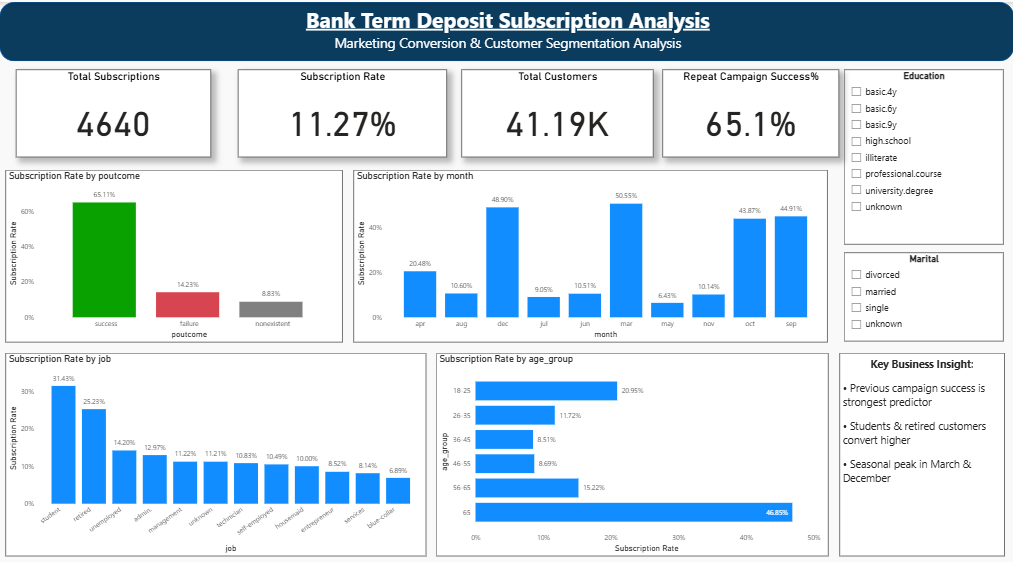

What the dashboard file says about the page in this screenshot:
{"tool":"powerbi","page":{"name":"Page 1","canvas":[1800,999],"ordinal":0},"visuals":[{"type":"card","title":"Total Subscriptions","fields":{"Values":["bank-additional-full.Subscriptions"]},"box":[32.5,120,345,155],"z":0},{"type":"card","title":"Subscription Rate","fields":{"Values":["bank-additional-full.Subscription Rate"]},"box":[425,120,370,155],"z":1000},{"type":"card","title":"Total Customers","fields":{"Values":["CountNonNull(bank-additional-full.y)"]},"box":[820,120,340,155],"z":2000},{"type":"clusteredBarChart","fields":{"Category":["bank-additional-full.age_group"],"Y":["bank-additional-full.Subscription Rate"]},"box":[775,622.5,695,360],"z":3000},{"type":"clusteredColumnChart","fields":{"Category":["bank-additional-full.poutcome"],"Y":["bank-additional-full.Subscription Rate"]},"box":[12.5,297.5,597.5,305],"z":4000},{"type":"clusteredColumnChart","fields":{"Category":["bank-additional-full.month"],"Y":["bank-additional-full.Subscription Rate"]},"box":[630,297.5,840,305],"z":5000},{"type":"clusteredColumnChart","fields":{"Category":["bank-additional-full.job"],"Y":["bank-additional-full.Subscription Rate"]},"box":[12.5,622.5,745,360],"z":6000},{"type":"slicer","title":"Education","fields":{"Values":["bank-additional-full.education"]},"box":[1500,120,282.5,310],"z":7000},{"type":"slicer","title":"    Marital","fields":{"Values":["bank-additional-full.marital"]},"box":[1500,445,282.5,157.5],"z":8000},{"type":"shape","box":[2.5,0,1797.5,105],"z":9000},{"type":"textbox","box":[52.5,0,1700,105],"z":10000},{"type":"textbox","box":[1490,622.5,292.5,360],"z":11000},{"type":"card","title":"Repeat Campaign Success%","fields":{"Values":["bank-additional-full.Repeat Campaign Success %"]},"box":[1177.5,120,312.5,155],"z":12000}]}

Visuals, with their boxes in screenshot pixels (x1, y1, x2, y2), scaled from the page's 1800x999 canvas onto the 1013x562 screenshot:
"Total Subscriptions" card: (x1=18, y1=68, x2=212, y2=155)
"Subscription Rate" card: (x1=239, y1=68, x2=447, y2=155)
"Total Customers" card: (x1=461, y1=68, x2=653, y2=155)
clusteredBarChart - bank-additional-full.age_group x bank-additional-full.Subscription Rate: (x1=436, y1=350, x2=827, y2=553)
clusteredColumnChart - bank-additional-full.poutcome x bank-additional-full.Subscription Rate: (x1=7, y1=167, x2=343, y2=339)
clusteredColumnChart - bank-additional-full.month x bank-additional-full.Subscription Rate: (x1=355, y1=167, x2=827, y2=339)
clusteredColumnChart - bank-additional-full.job x bank-additional-full.Subscription Rate: (x1=7, y1=350, x2=426, y2=553)
"Education" slicer: (x1=844, y1=68, x2=1003, y2=242)
"    Marital" slicer: (x1=844, y1=250, x2=1003, y2=339)
shape: (x1=1, y1=0, x2=1012, y2=59)
textbox: (x1=30, y1=0, x2=986, y2=59)
textbox: (x1=839, y1=350, x2=1003, y2=553)
"Repeat Campaign Success%" card: (x1=663, y1=68, x2=839, y2=155)
